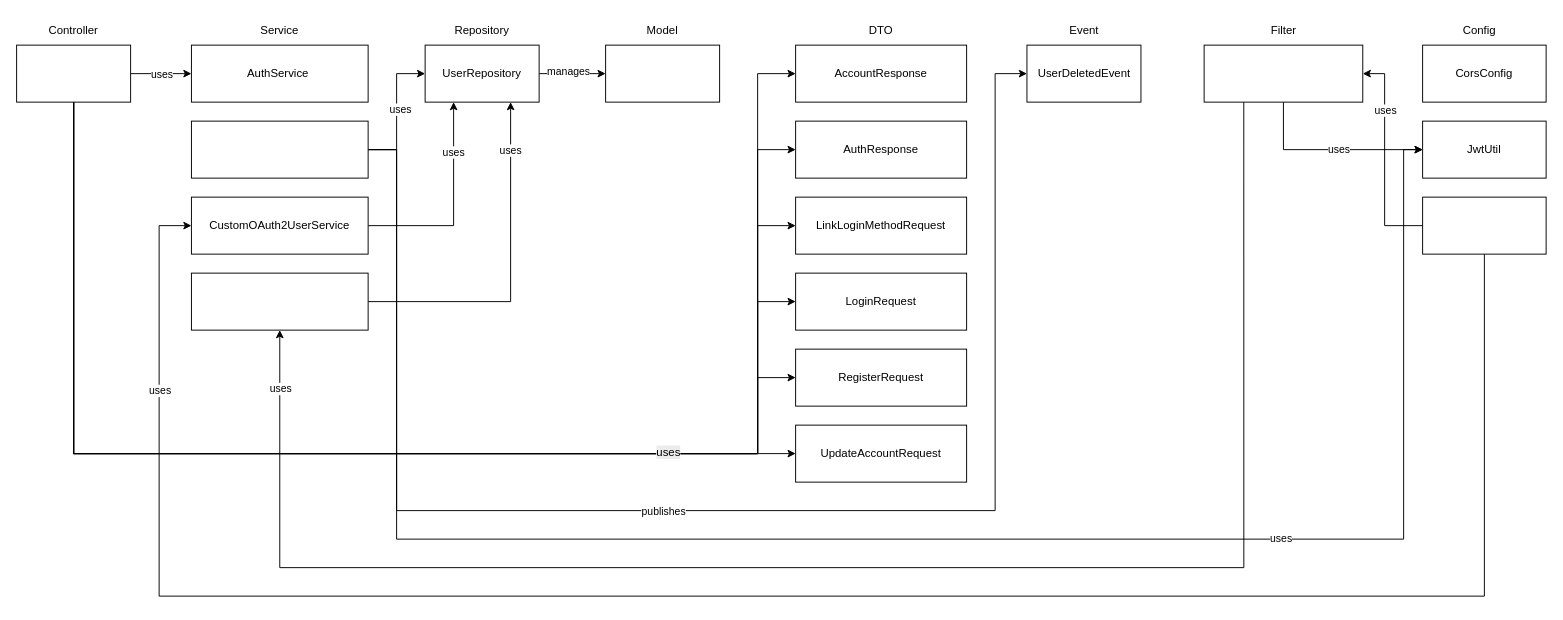
Some shapes in this 1563 by 620 pixel diagram are drawn without their labels. The shapes that lost their labels are listed below. From the top down, each one's centre as x and y in pixels, then its label:
pixel 73 73: AuthController
pixel 662 73: User
pixel 1283 73: JwtAuthenticationFilter
pixel 279 149: AuthServiceImpl
pixel 1484 225: SecurityConfig
pixel 279 301: CustomUserDetailsService
